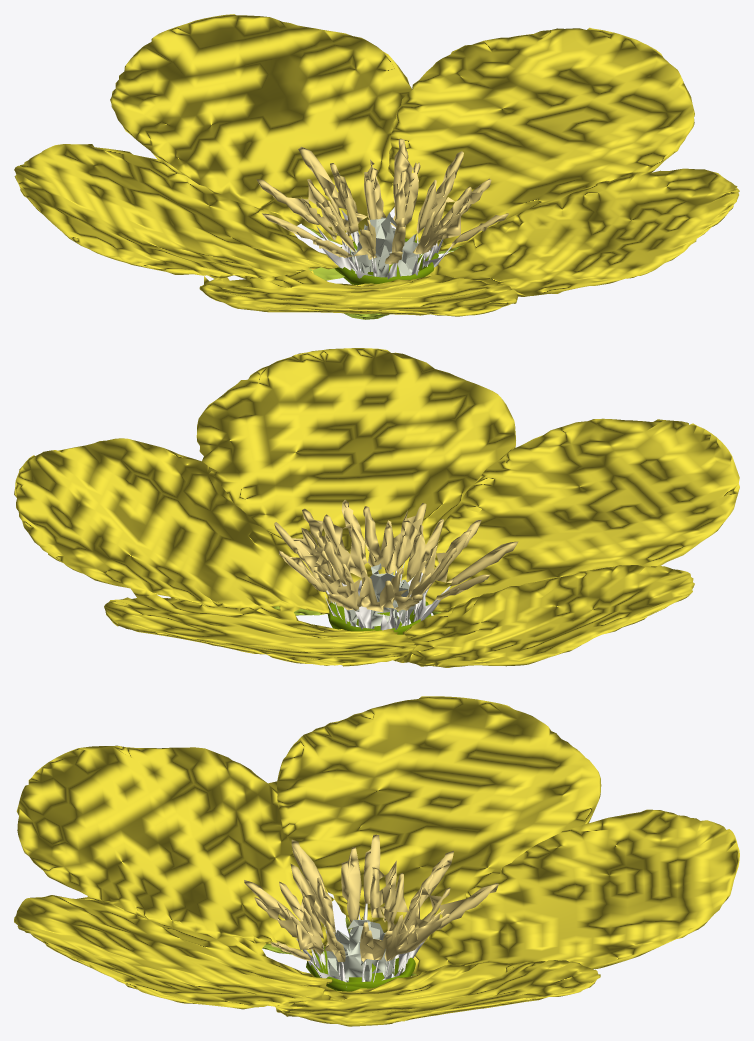
The picture shows the model from 3 angles, top to bottom: view 1: azimuth 30°, elevation 25°; view 2: azimuth 150°, elevation 25°; view 3: azimuth 270°, elevation 25°; orthographic projection. The views are drawn at different scales.
Visible parts, largest first — view 1: 1a64e959; view 2: 1a64e959; view 3: 1a64e959.
Boxes of the visible parts, x1,y1,x2,y2 form: 1a64e959: (14,14,739,319); 1a64e959: (14,348,739,667); 1a64e959: (14,696,739,1026).
Size of the model in its own units: 0.0758 by 0.0141 by 0.0735.
